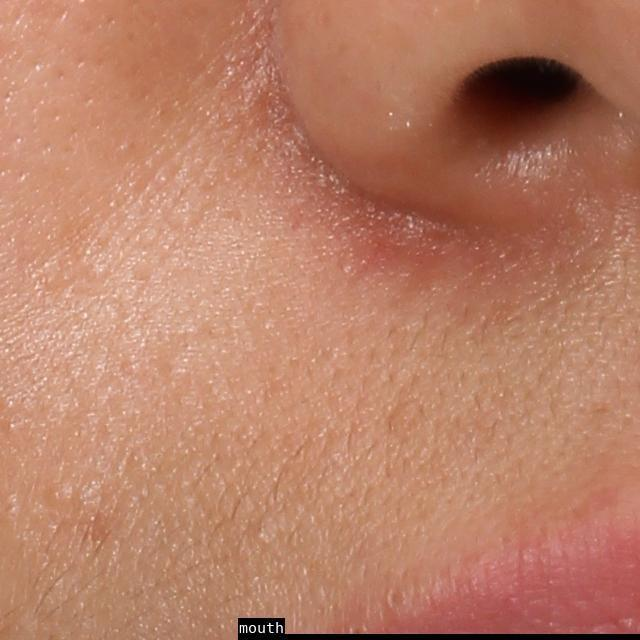comedo: (42, 479, 71, 512)
